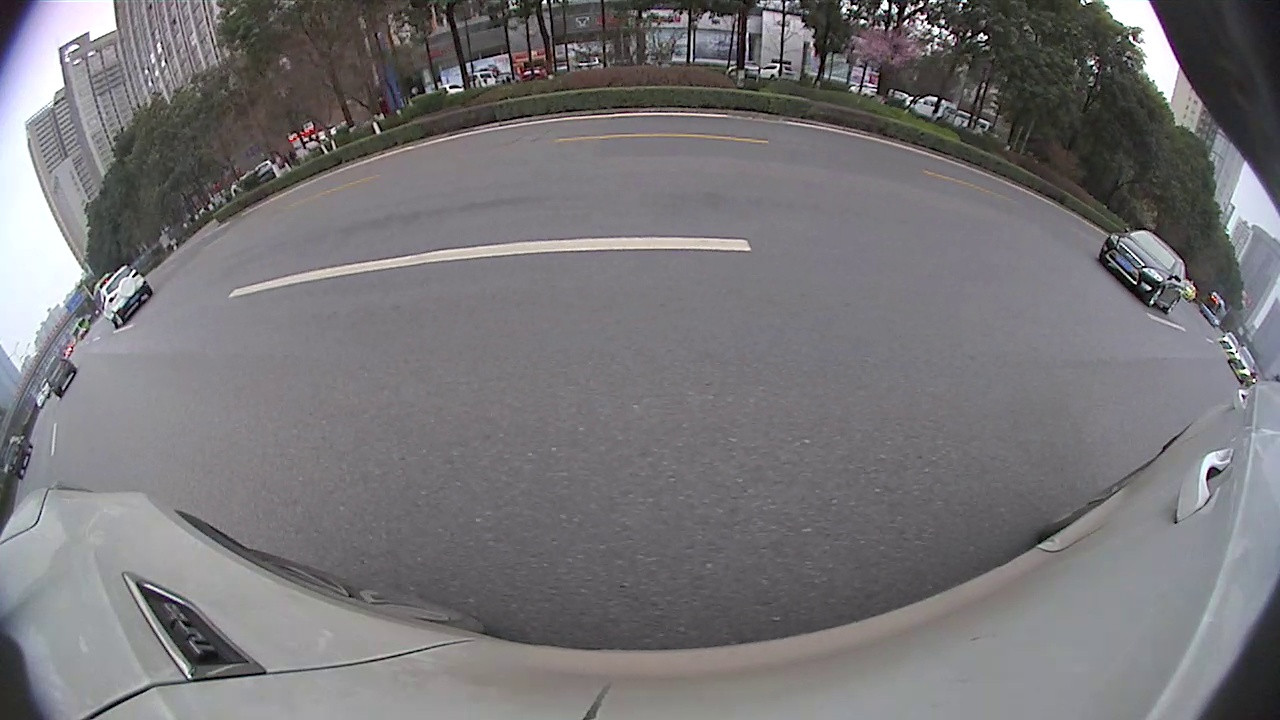car: (1099, 228, 1188, 316), (96, 261, 152, 329), (2, 433, 35, 479), (44, 354, 77, 399)
front: (1148, 290, 1164, 305)
rear: (1167, 299, 1181, 313)
